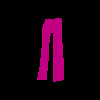pantaloni: (36, 18, 64, 82)
